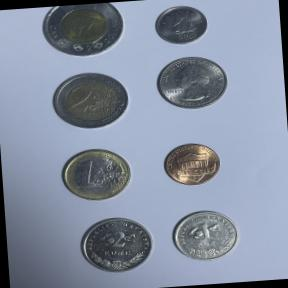1 Euro: (55, 144, 134, 205)
2 Euro: (48, 68, 132, 132)
Canda-10cent-: (150, 1, 212, 48)
Canda-2Dollar-: (38, 1, 128, 61)
Croatia-2Kune-: (76, 212, 156, 277)
US-1cent-: (158, 139, 224, 189)
US-25cent-: (152, 52, 232, 114)
